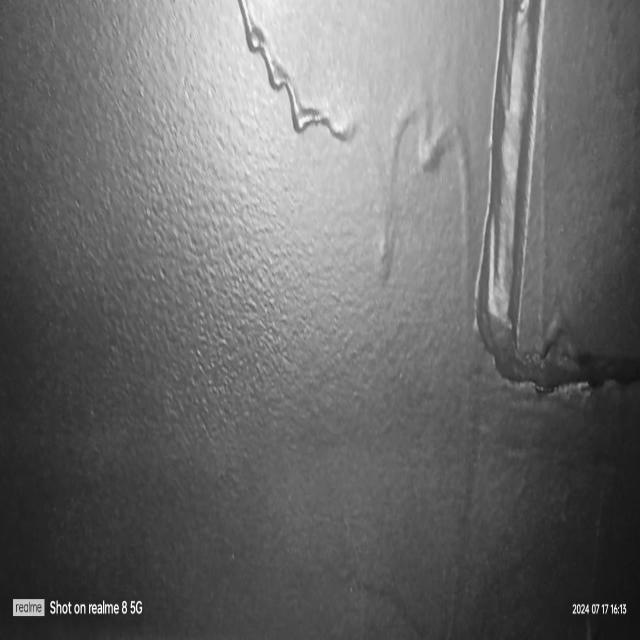paint drips: (364, 69, 476, 321), (232, 0, 359, 170)
